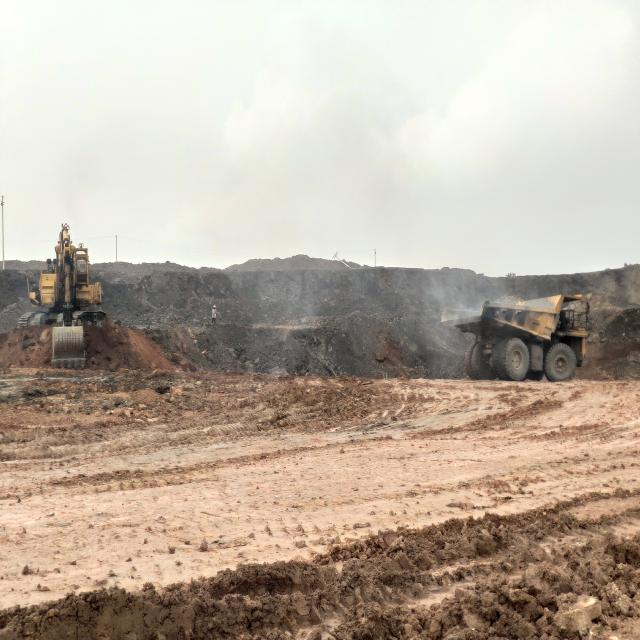dump_truck: (439, 292, 591, 383)
excavator: (17, 224, 106, 370)
